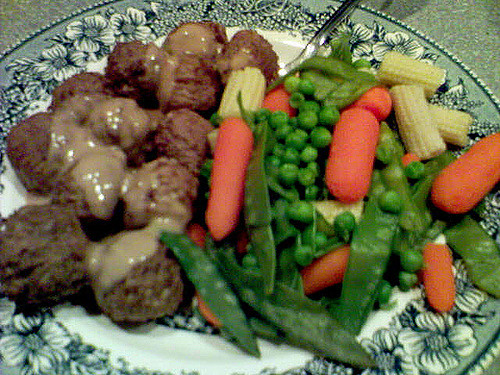boiled peas: (269, 105, 327, 241)
meatballs: (5, 117, 188, 321), (109, 25, 260, 113)
